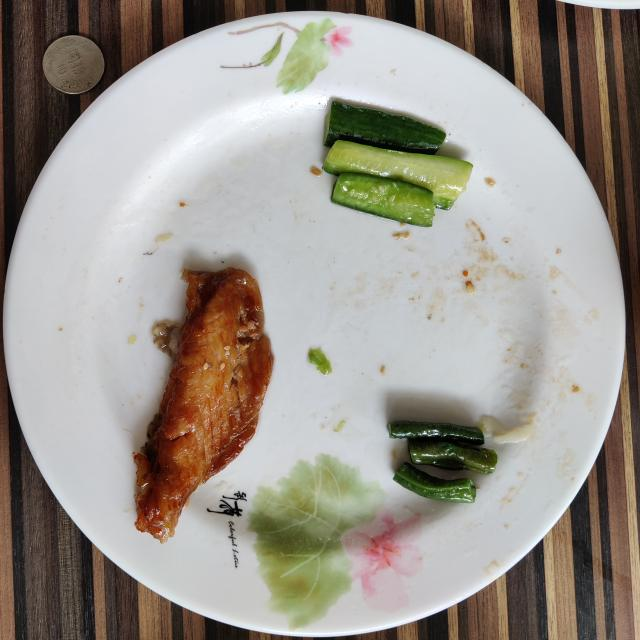Kabayaki sea bream fillet: (134, 268, 274, 542)
coin: (42, 35, 105, 94)
cucumber: (322, 101, 472, 226)
